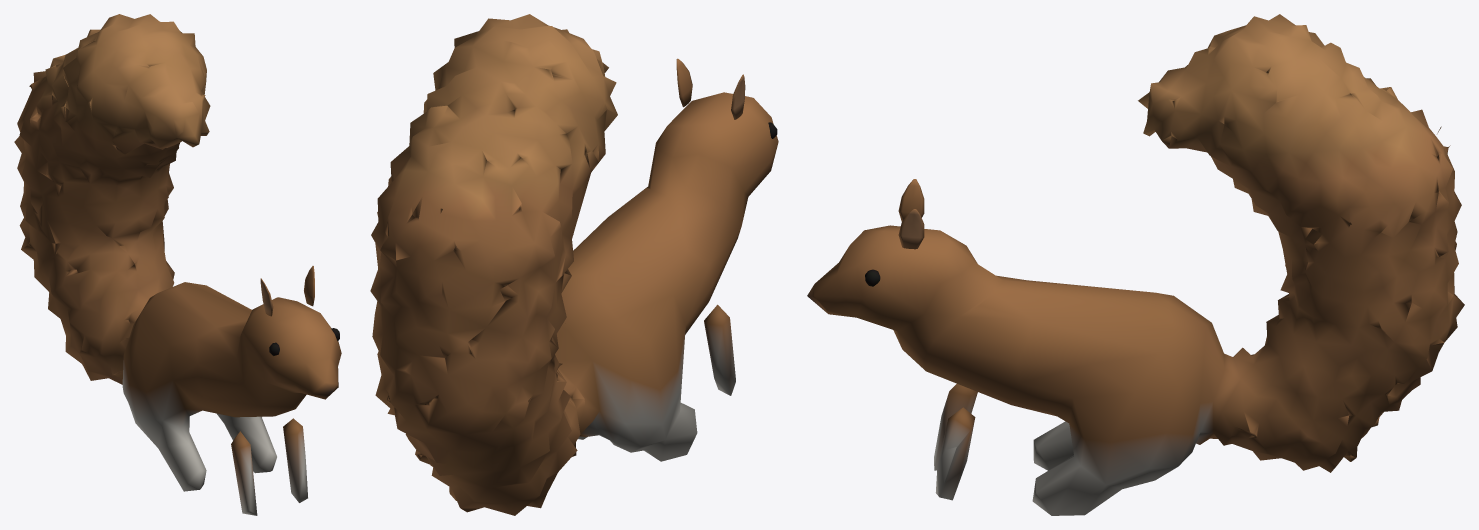
Rendered from eichhoernchen.glb.
3 views of the same model, side by side, from view 1: azimuth 30°, elevation 25°; view 2: azimuth 150°, elevation 25°; view 3: azimuth 270°, elevation 25° (orthographic). The views are drawn at different scales.
Visible parts, largest first — view 1: lack; view 2: lack; view 3: lack.
Part boxes in pixels (x1,y1,x2,y2): lack: [14, 14, 341, 515]; lack: [370, 14, 778, 515]; lack: [807, 14, 1464, 515].
Size of the model in its own units: 0.0911 by 0.2391 by 0.3049.
